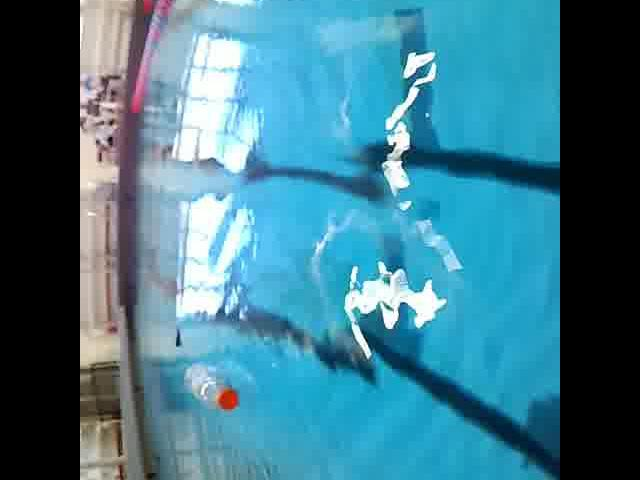Bottle: (183, 360, 243, 412)
